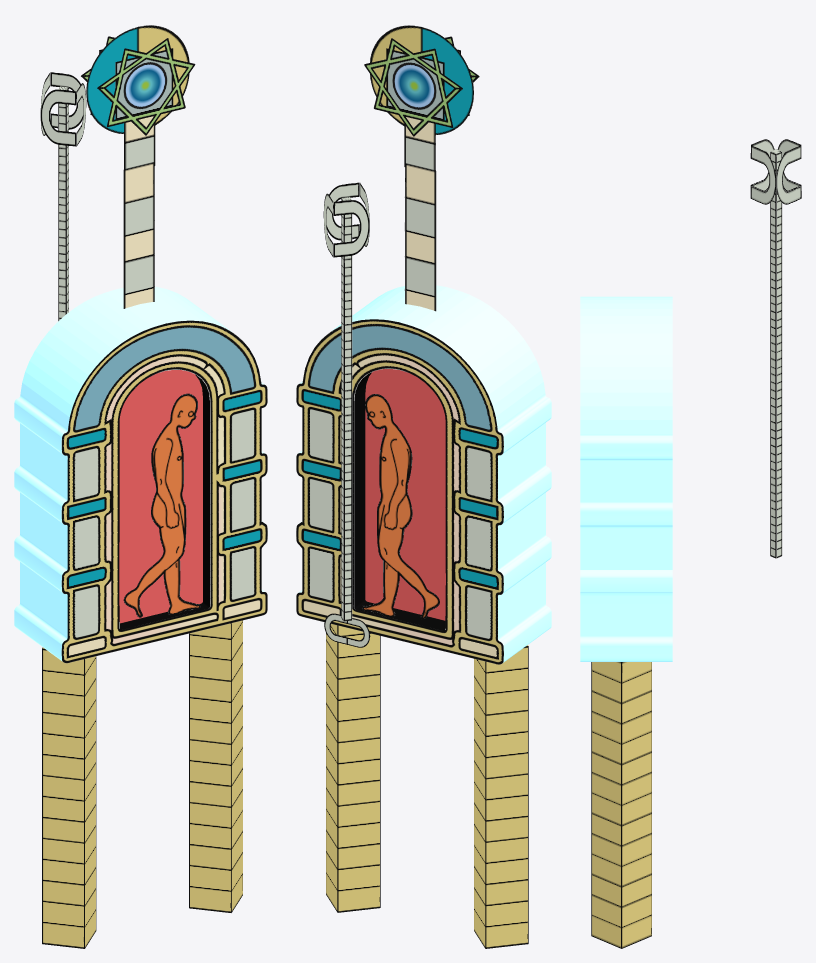
The model's file is pillar.gltf.
3 views of the same model, side by side, from view 1: azimuth 30°, elevation 25°; view 2: azimuth 150°, elevation 25°; view 3: azimuth 270°, elevation 25° (orthographic). The views are drawn at different scales.
Visible parts, largest first — view 1: Curve, Cube, Cube.001, wand, Plane.001, star1, Pillar 2-3 Top, Pillar 2-3 Mid; view 2: Curve, Cube, Cube.001, wand, Plane, star2, Pillar 2-3 Mid, Pillar 2-3 Top, Pillar 2-3 Bottom; view 3: Curve, Cube.001, Pillar 2-3 Mid, Pillar 2-3 Top.
Boxes of the visible parts, x1,y1,x2,y2 form: Curve: (14,286,267,663); Cube: (42,647,96,948); Cube.001: (189,620,242,912); wand: (86,25,189,308); Plane.001: (123,393,201,617); star1: (97,38,195,135); Pillar 2-3 Top: (40,72,86,146); Pillar 2-3 Mid: (58,86,68,321); Curve: (296,285,551,664); Cube: (474,645,528,948); Cube.001: (326,624,380,912); wand: (370,25,473,311); Plane: (361,394,439,619); star2: (364,38,462,136); Pillar 2-3 Mid: (341,197,352,621); Pillar 2-3 Top: (323,182,369,257); Pillar 2-3 Bottom: (324,613,370,647); Curve: (580,296,672,661); Cube.001: (591,662,651,948); Pillar 2-3 Mid: (770,149,782,558); Pillar 2-3 Top: (750,139,801,204).
Size of the model in its own units: 7.23 by 29.82 by 6.93.
Materials: 12 (9 with a texture image).
